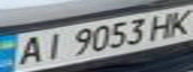0: (90, 21, 115, 53)
3: (124, 16, 154, 46)
5: (109, 19, 133, 49)
9: (66, 25, 93, 57)
A: (9, 33, 48, 69)
H: (145, 10, 181, 40)
I: (36, 29, 69, 62)
K: (163, 6, 193, 36)
